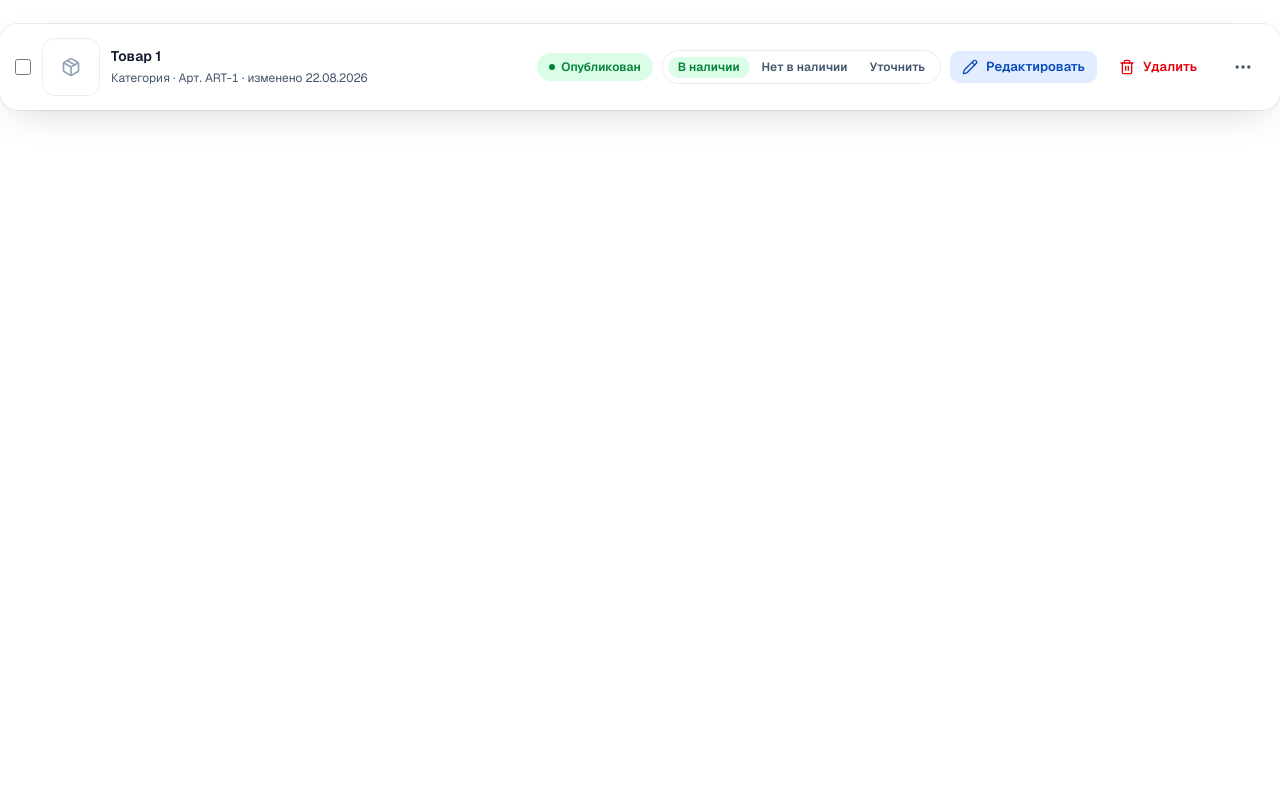
ProductsList publication and hotspot state › добавляет товар на вторую точку одним CAS-изменением и сохраняет прежнюю
Click the button named "Открыть действия с товаром «Товар 1»" at [1243, 67], box 1221,45 -> 1265,89
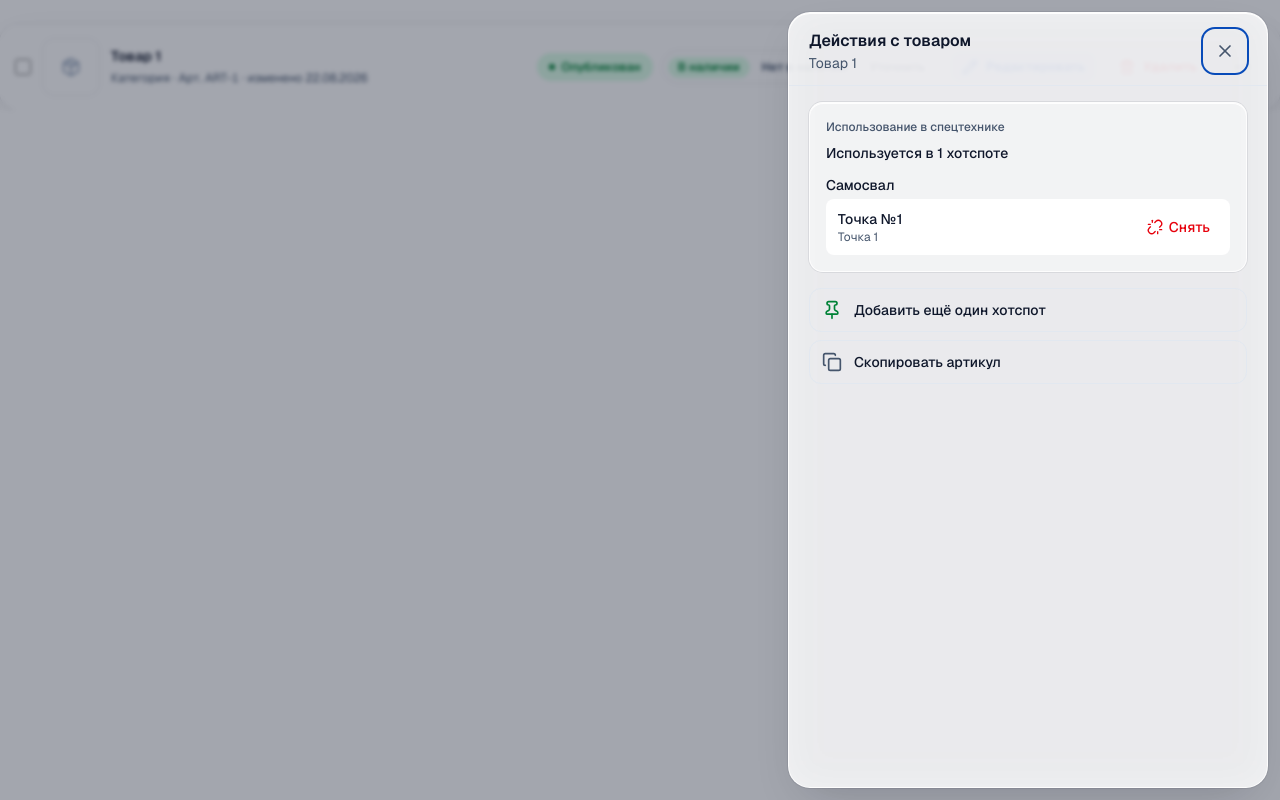
Click the button "Добавить ещё один хотспот" at [1028, 310], box 809,288 -> 1247,332
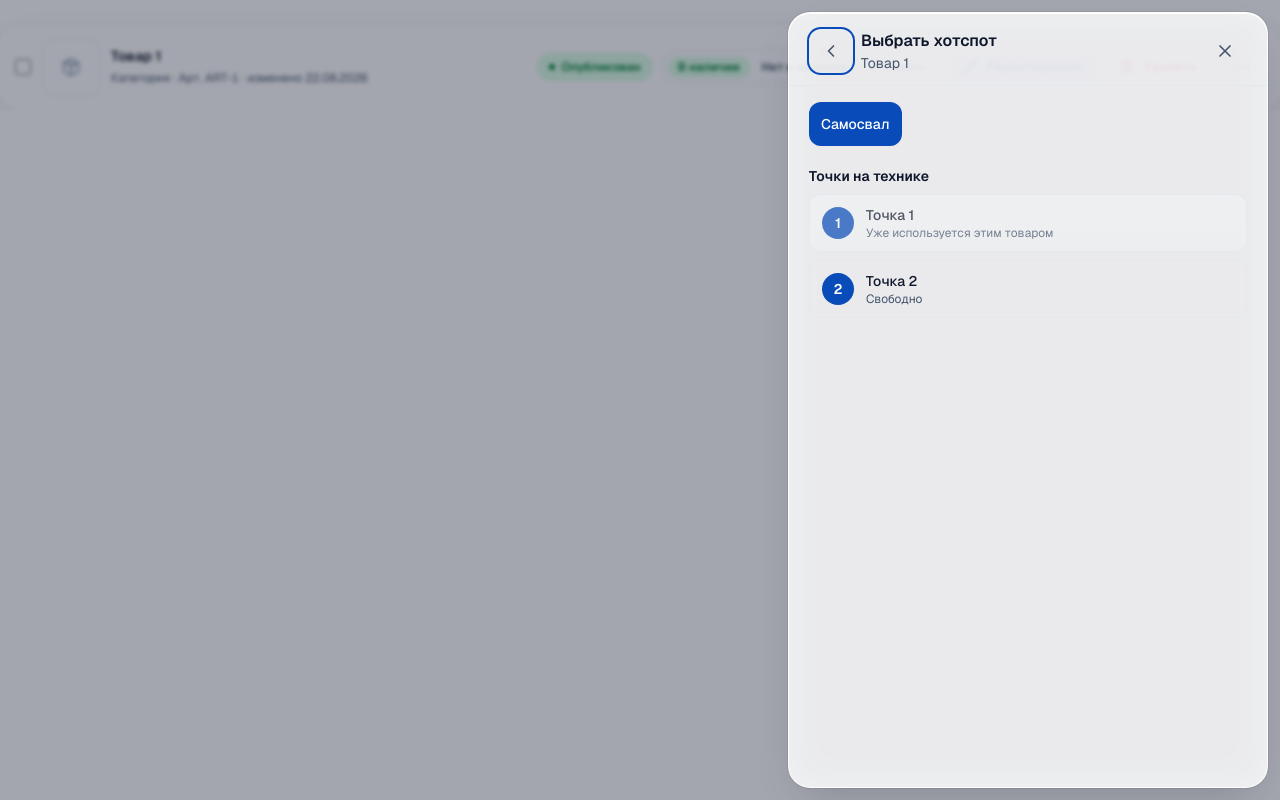
Click the button "2 Точка 2 Свободно" at [838, 289], box 809,260 -> 1247,318
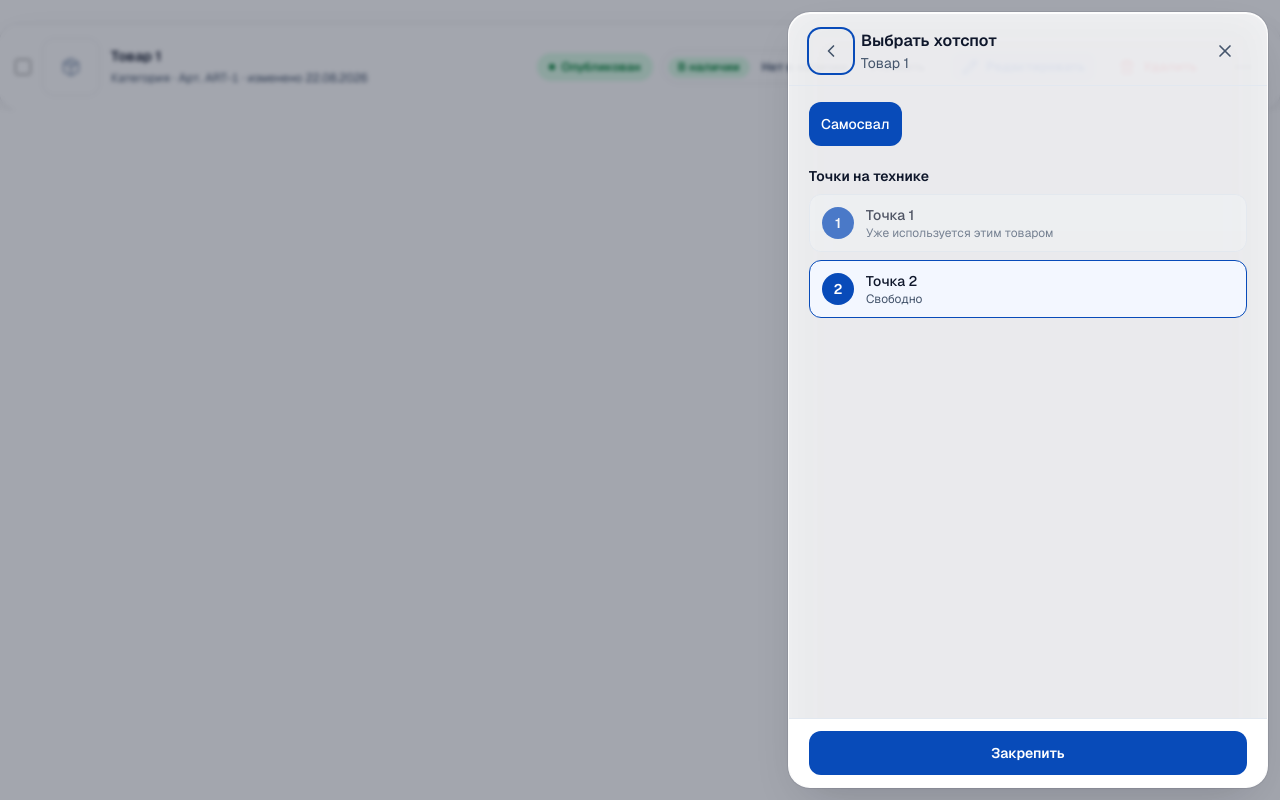
Click the button "Закрепить" at [1028, 753], box 809,731 -> 1247,775
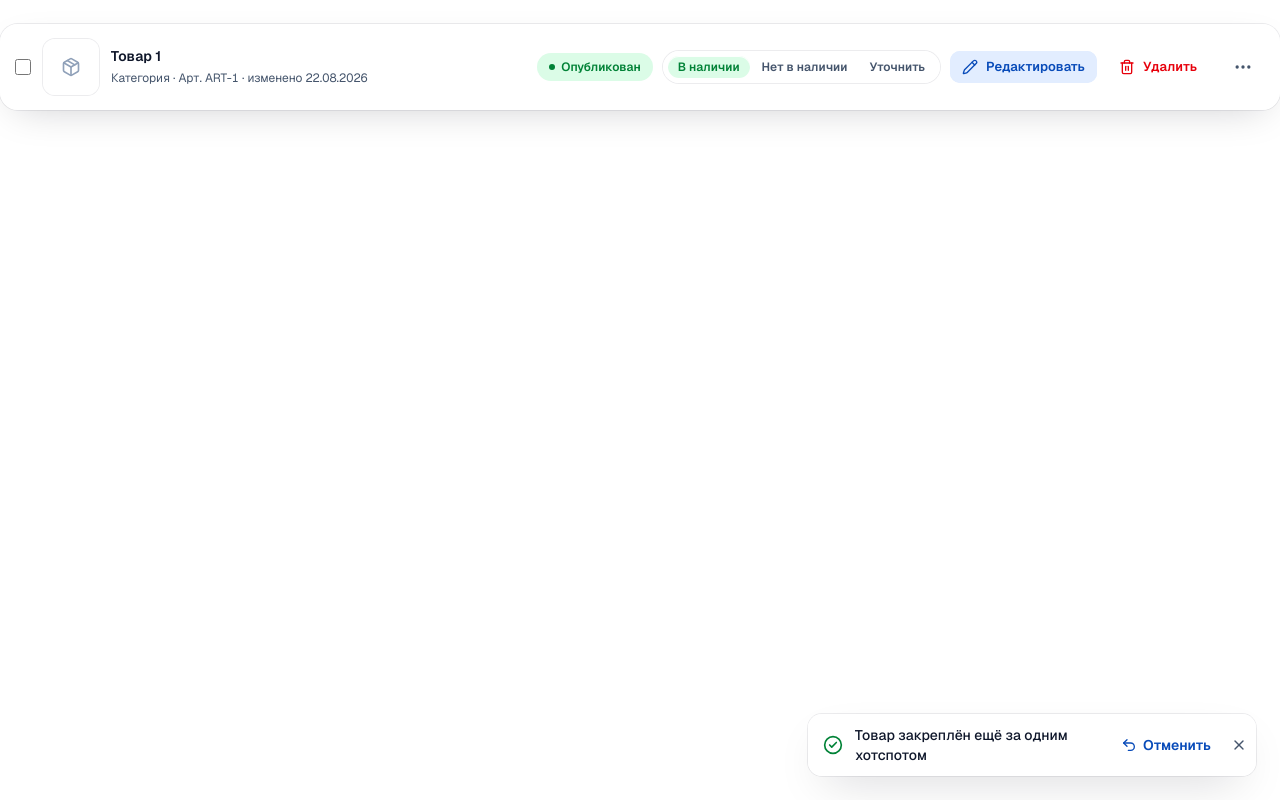
Result: the heading "Выбрать хотспот" is gone
Click the button named "Открыть действия с товаром «Товар 1»" at [1243, 67], box 1221,45 -> 1265,89
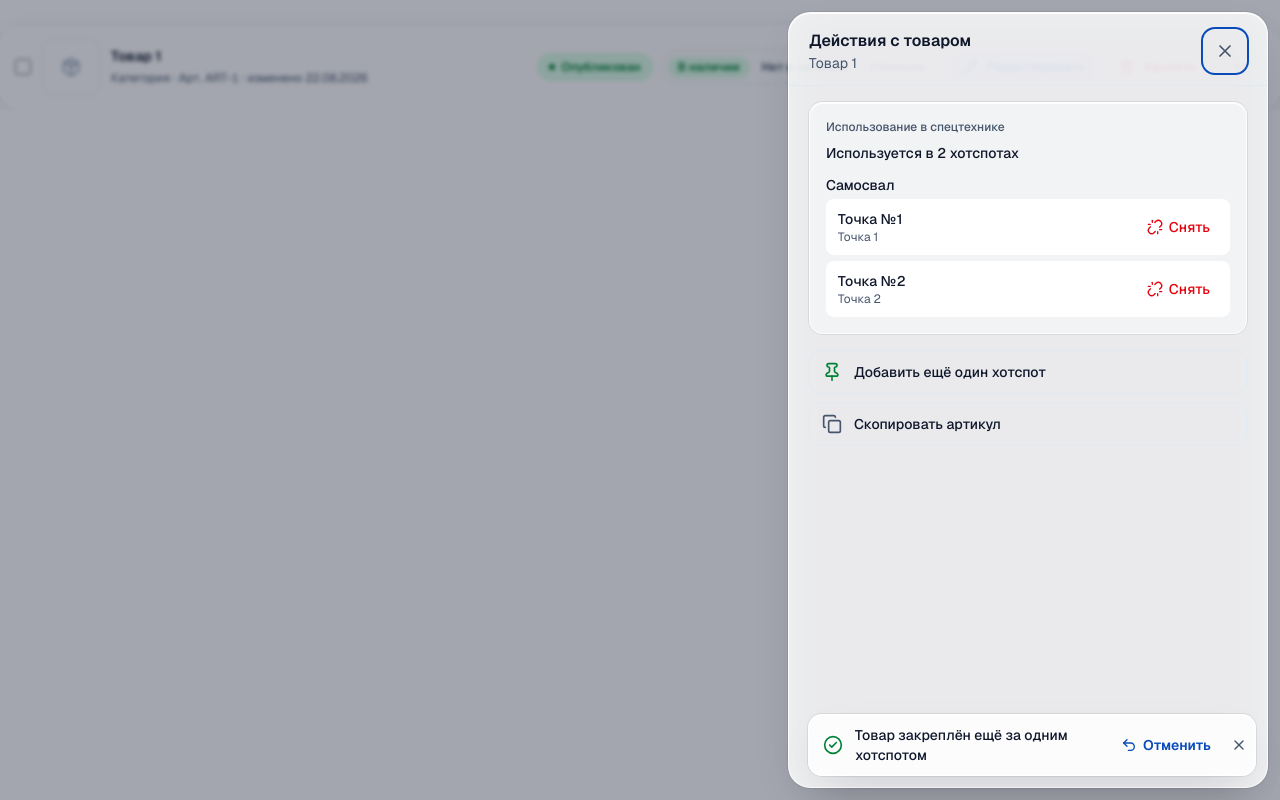
Result: the text "Используется в 2 хотспотах" is shown at 826,144 -> 1019,162
Result: the text "Точка №1" is shown at 838,210 -> 902,228
Result: the text "Точка №2" is shown at 838,272 -> 906,290
